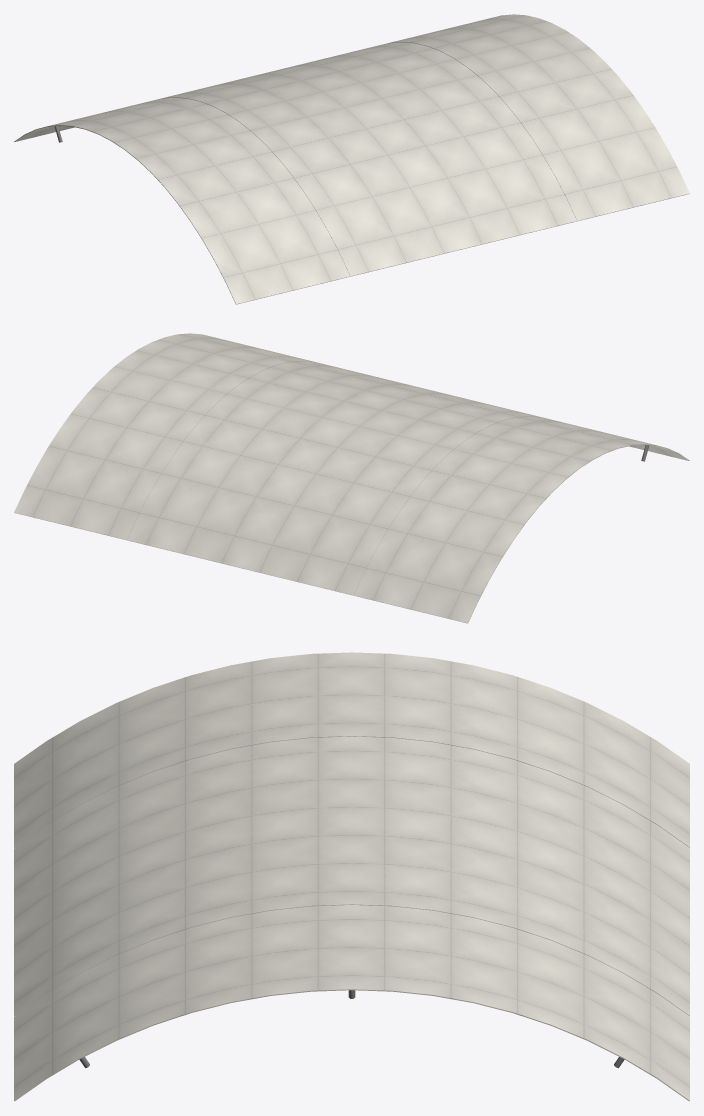
Rendered from ax_util_29_whipple_panel_l.glb.
3 renders of one model, top to bottom at view 1: azimuth 30°, elevation 25°; view 2: azimuth 150°, elevation 25°; view 3: azimuth 270°, elevation 25°, orthographic. The views are drawn at different scales.
Visible parts, largest first — view 1: bumper_sheet; view 2: bumper_sheet; view 3: bumper_sheet.
Boxes of the visible parts, x1,y1,x2,y2 form: bumper_sheet: [14, 14, 689, 304]; bumper_sheet: [14, 333, 689, 623]; bumper_sheet: [14, 652, 689, 1101].
Size of the model in its own units: 3 by 0.4661 by 2.54.
Materials: 2 (2 with a texture image).
